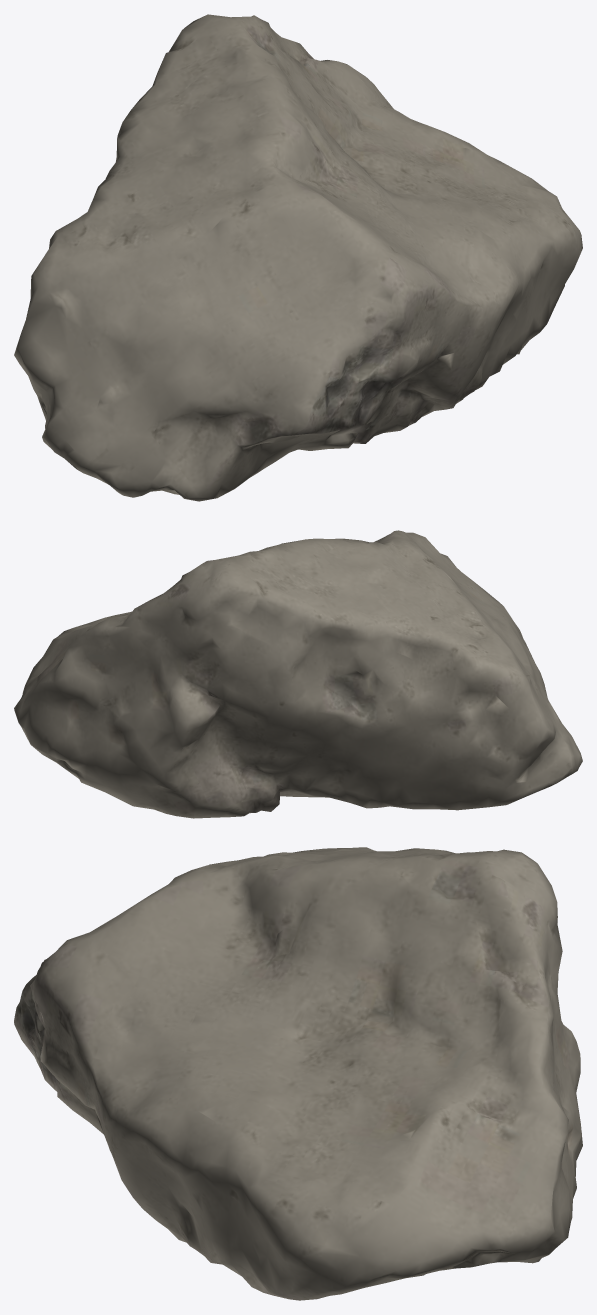
Rendered from stone.glb.
3 views of the same model, one above another, from view 1: azimuth 30°, elevation 25°; view 2: azimuth 150°, elevation 25°; view 3: azimuth 270°, elevation 25° (orthographic). The views are drawn at different scales.
Parts seen in each view (by area): view 1: moon_rock_03_LOD0; view 2: moon_rock_03_LOD0; view 3: moon_rock_03_LOD0.
Boxes of the visible parts, x1,y1,x2,y2 form: moon_rock_03_LOD0: (14,14,582,501); moon_rock_03_LOD0: (14,530,582,818); moon_rock_03_LOD0: (14,847,582,1300).
Size of the model in its own units: 0.112 by 0.0582 by 0.0861.
1 material, 1 textured.
